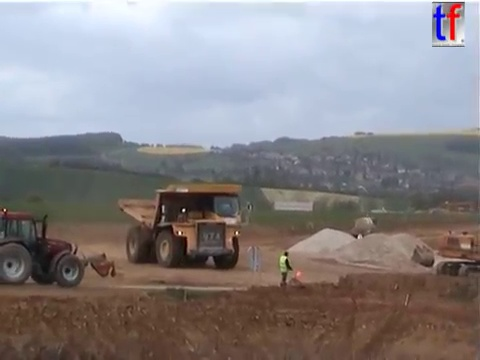excavator: (433, 227, 480, 285)
truck: (115, 181, 252, 270), (349, 215, 377, 239)
wheel loader: (1, 205, 118, 288)
worker: (276, 249, 294, 288)
